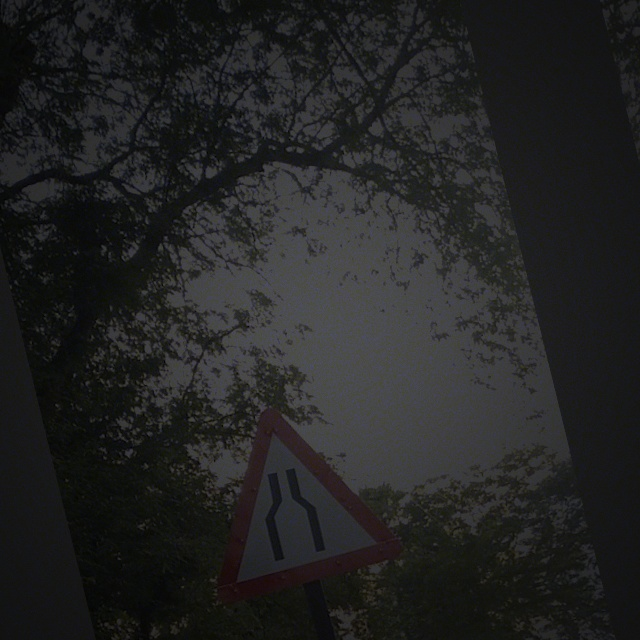Narrow_Road_Ahead: (179, 382, 407, 603)
